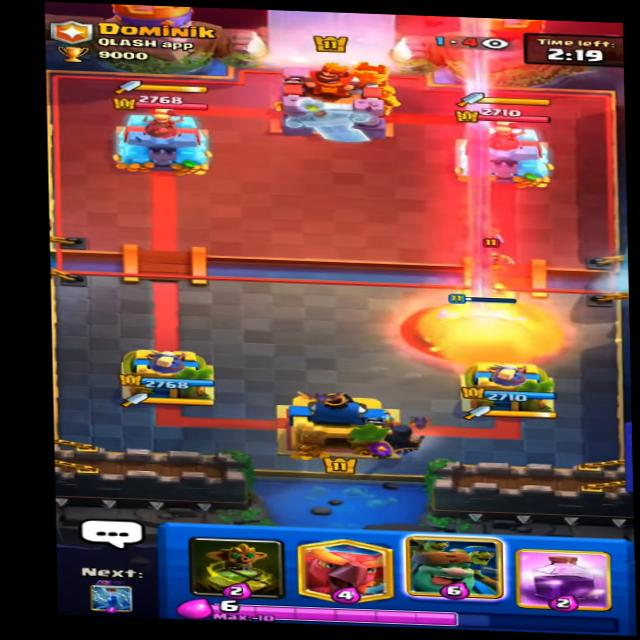void: (400, 293, 554, 369)
wizard: (461, 233, 515, 279)
